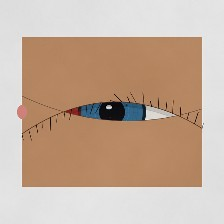hemorrhage_spot: (46, 84, 122, 145)
